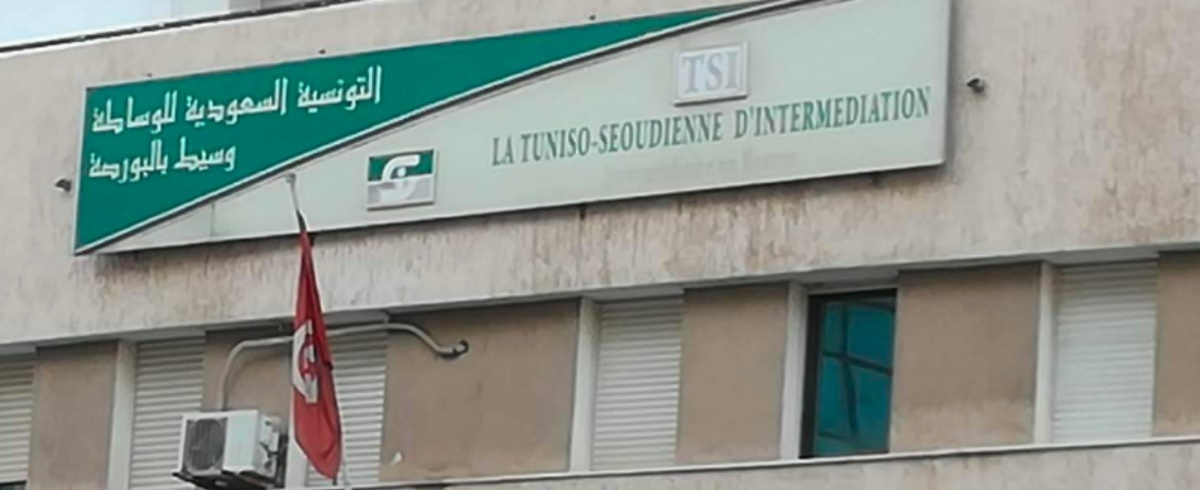text: (193, 72, 208, 131), (209, 72, 224, 131), (225, 72, 240, 131), (241, 72, 256, 131), (257, 72, 272, 131), (273, 72, 288, 131), (529, 108, 544, 167), (545, 108, 560, 167), (561, 108, 576, 167), (577, 108, 592, 167), (593, 108, 608, 167), (609, 108, 624, 167), (625, 108, 640, 167), (641, 108, 656, 167), (657, 108, 672, 167), (673, 108, 688, 167), (689, 108, 704, 167), (705, 108, 720, 167), (97, 86, 112, 143), (113, 86, 128, 143), (129, 86, 144, 143), (145, 86, 160, 143), (161, 86, 176, 143), (737, 86, 752, 141), (753, 86, 768, 141), (769, 86, 784, 141), (785, 86, 800, 141), (801, 86, 816, 141), (817, 86, 832, 141), (833, 86, 848, 141), (849, 86, 864, 141), (865, 86, 880, 141), (881, 86, 896, 141), (897, 86, 912, 141), (913, 86, 928, 141), (305, 63, 320, 117), (321, 63, 336, 117), (337, 63, 352, 117), (353, 63, 368, 117), (369, 63, 384, 117), (97, 135, 112, 185), (113, 135, 128, 185), (129, 135, 144, 185), (145, 135, 160, 185), (161, 135, 175, 185), (689, 47, 704, 93), (705, 47, 720, 93), (721, 47, 736, 93), (177, 134, 192, 174), (193, 134, 208, 174), (209, 134, 224, 174), (182, 72, 192, 131), (225, 134, 239, 174), (86, 135, 96, 185), (520, 108, 528, 167), (497, 134, 512, 165), (678, 47, 688, 93), (296, 63, 304, 117), (177, 86, 182, 143), (289, 72, 293, 131), (721, 108, 725, 167), (737, 47, 742, 93), (92, 86, 96, 143), (489, 134, 496, 165), (733, 86, 736, 141), (929, 86, 932, 141), (513, 134, 517, 165), (173, 134, 176, 174), (385, 63, 386, 117)
